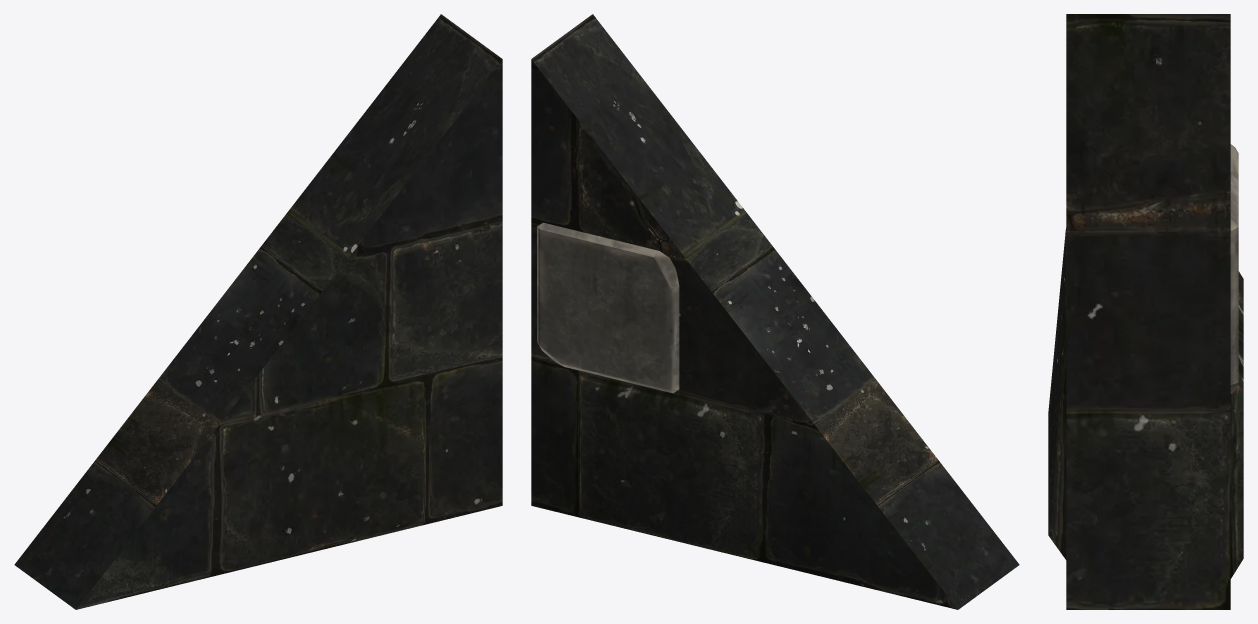
The picture shows the model from 3 angles, left to right: view 1: azimuth 30°, elevation 25°; view 2: azimuth 150°, elevation 25°; view 3: azimuth 270°, elevation 25°; orthographic projection. The views are drawn at different scales.
Parts seen in each view (by area): view 1: SM_DeathTemple_Wall_Corner_2x2_01_v1_LOD0; view 2: SM_DeathTemple_Wall_Corner_2x2_01_v1_LOD0; view 3: SM_DeathTemple_Wall_Corner_2x2_01_v1_LOD0.
Boxes of the visible parts, left/top/right/bottom form: SM_DeathTemple_Wall_Corner_2x2_01_v1_LOD0: left=14, top=14, right=502, bottom=609; SM_DeathTemple_Wall_Corner_2x2_01_v1_LOD0: left=531, top=14, right=1019, bottom=609; SM_DeathTemple_Wall_Corner_2x2_01_v1_LOD0: left=1048, top=14, right=1243, bottom=609.
Bounding box in the file's own units: 2 × 2 × 0.5931.
2 materials, 2 textured.
